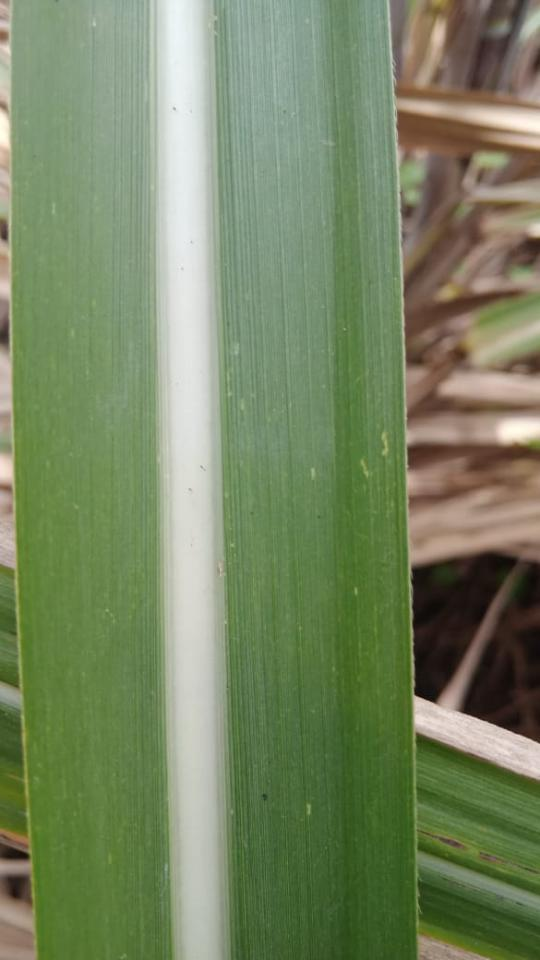Healthy: (12, 0, 415, 959)
